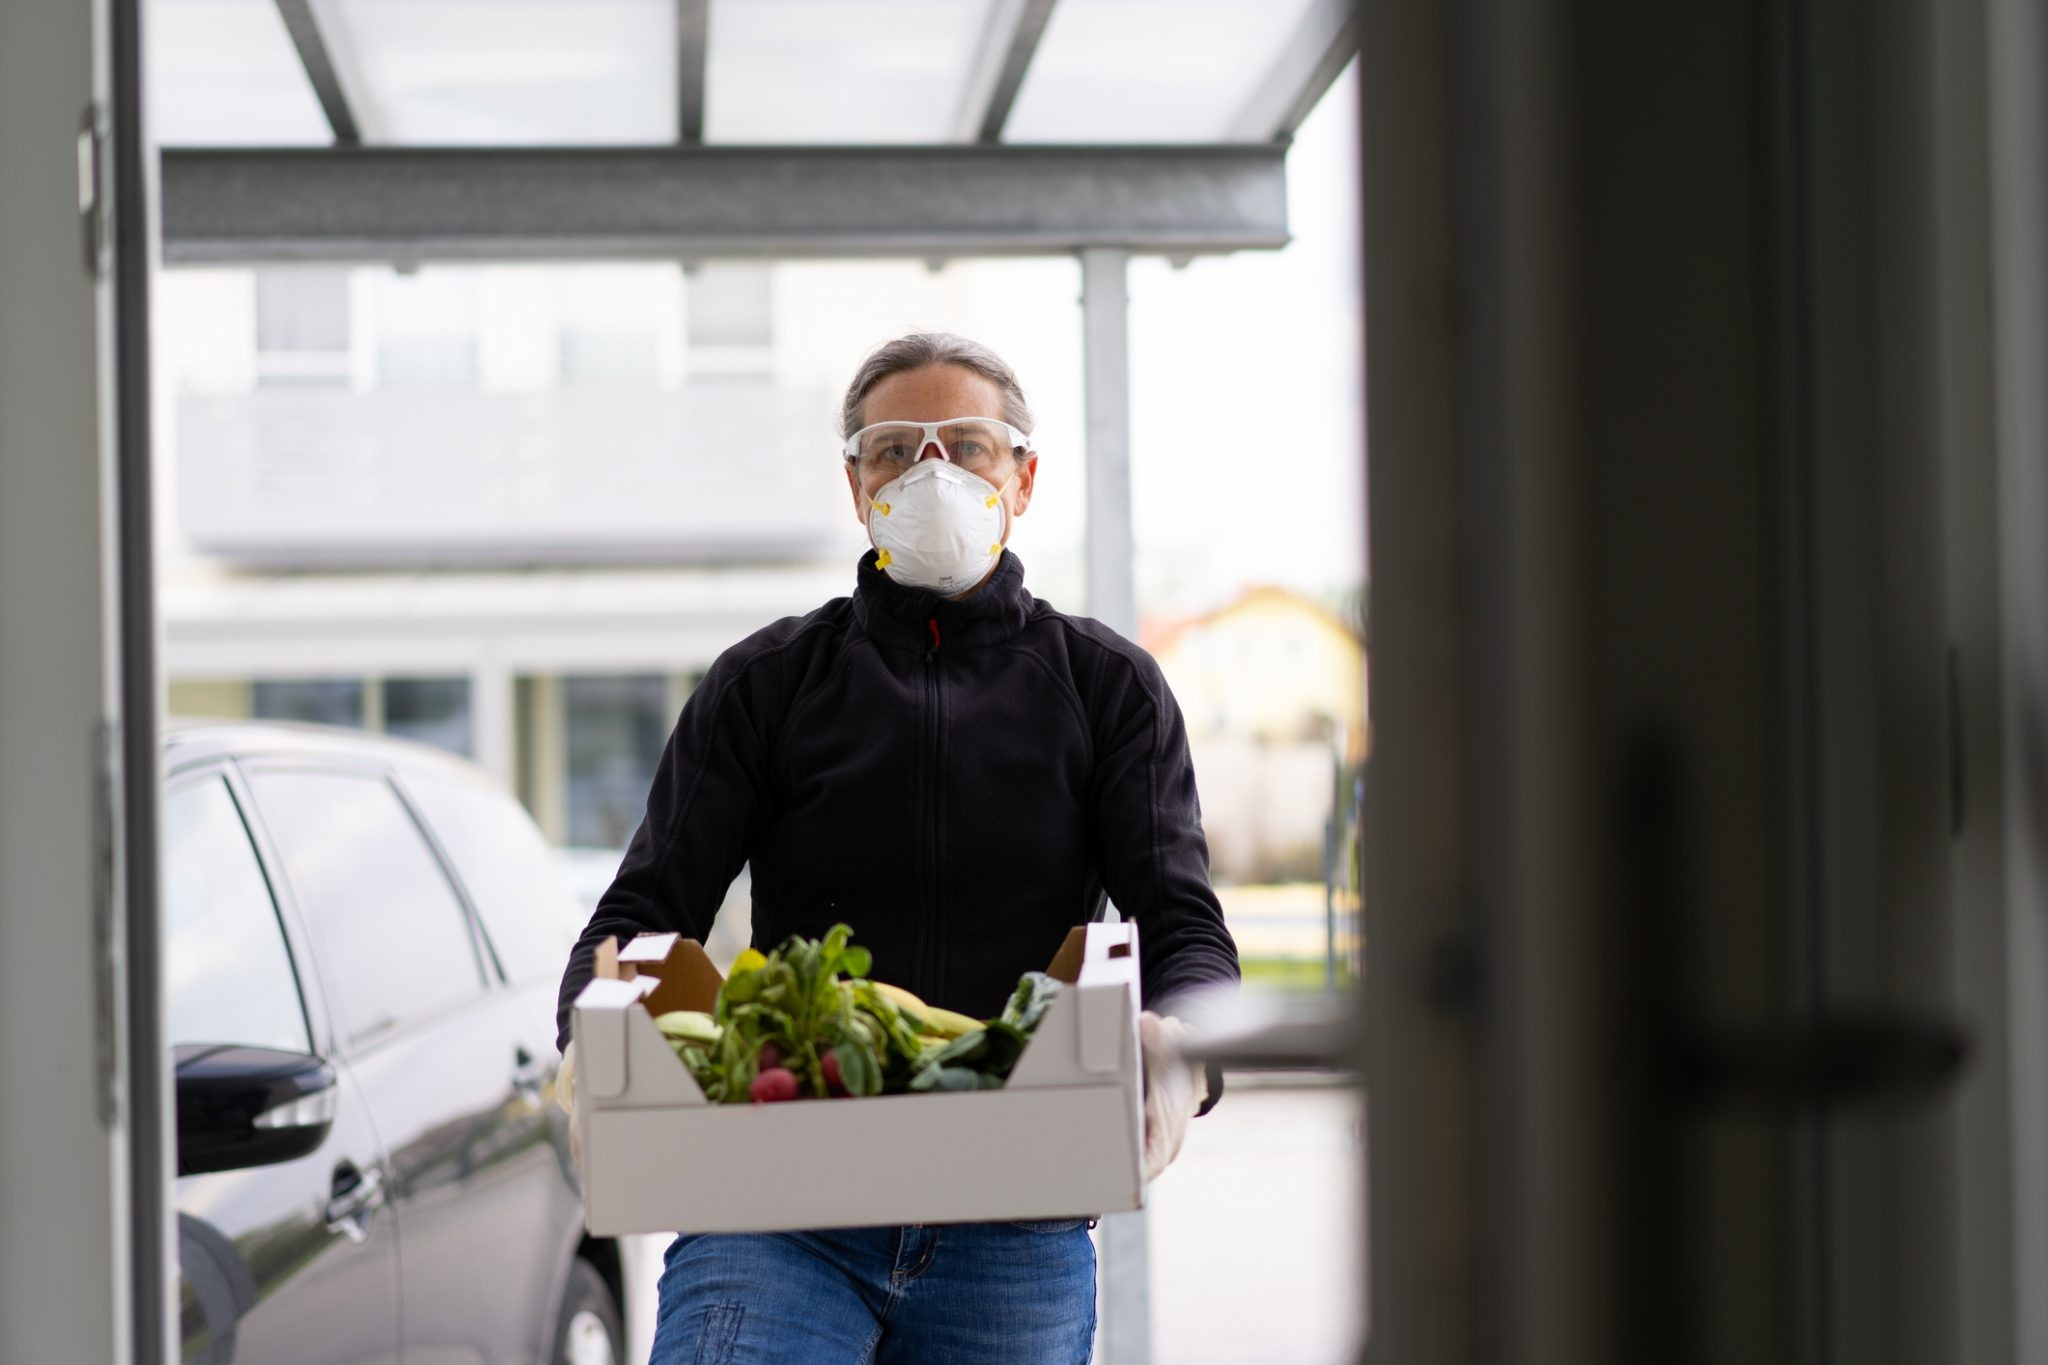Goggles: (841, 411, 1039, 486)
with_mask: (864, 428, 1010, 597)
